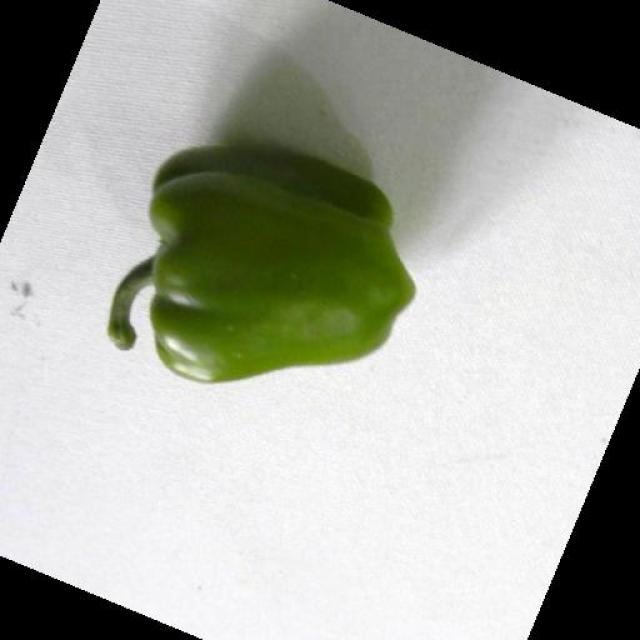Fresh_Capsicum: (122, 140, 428, 396)
